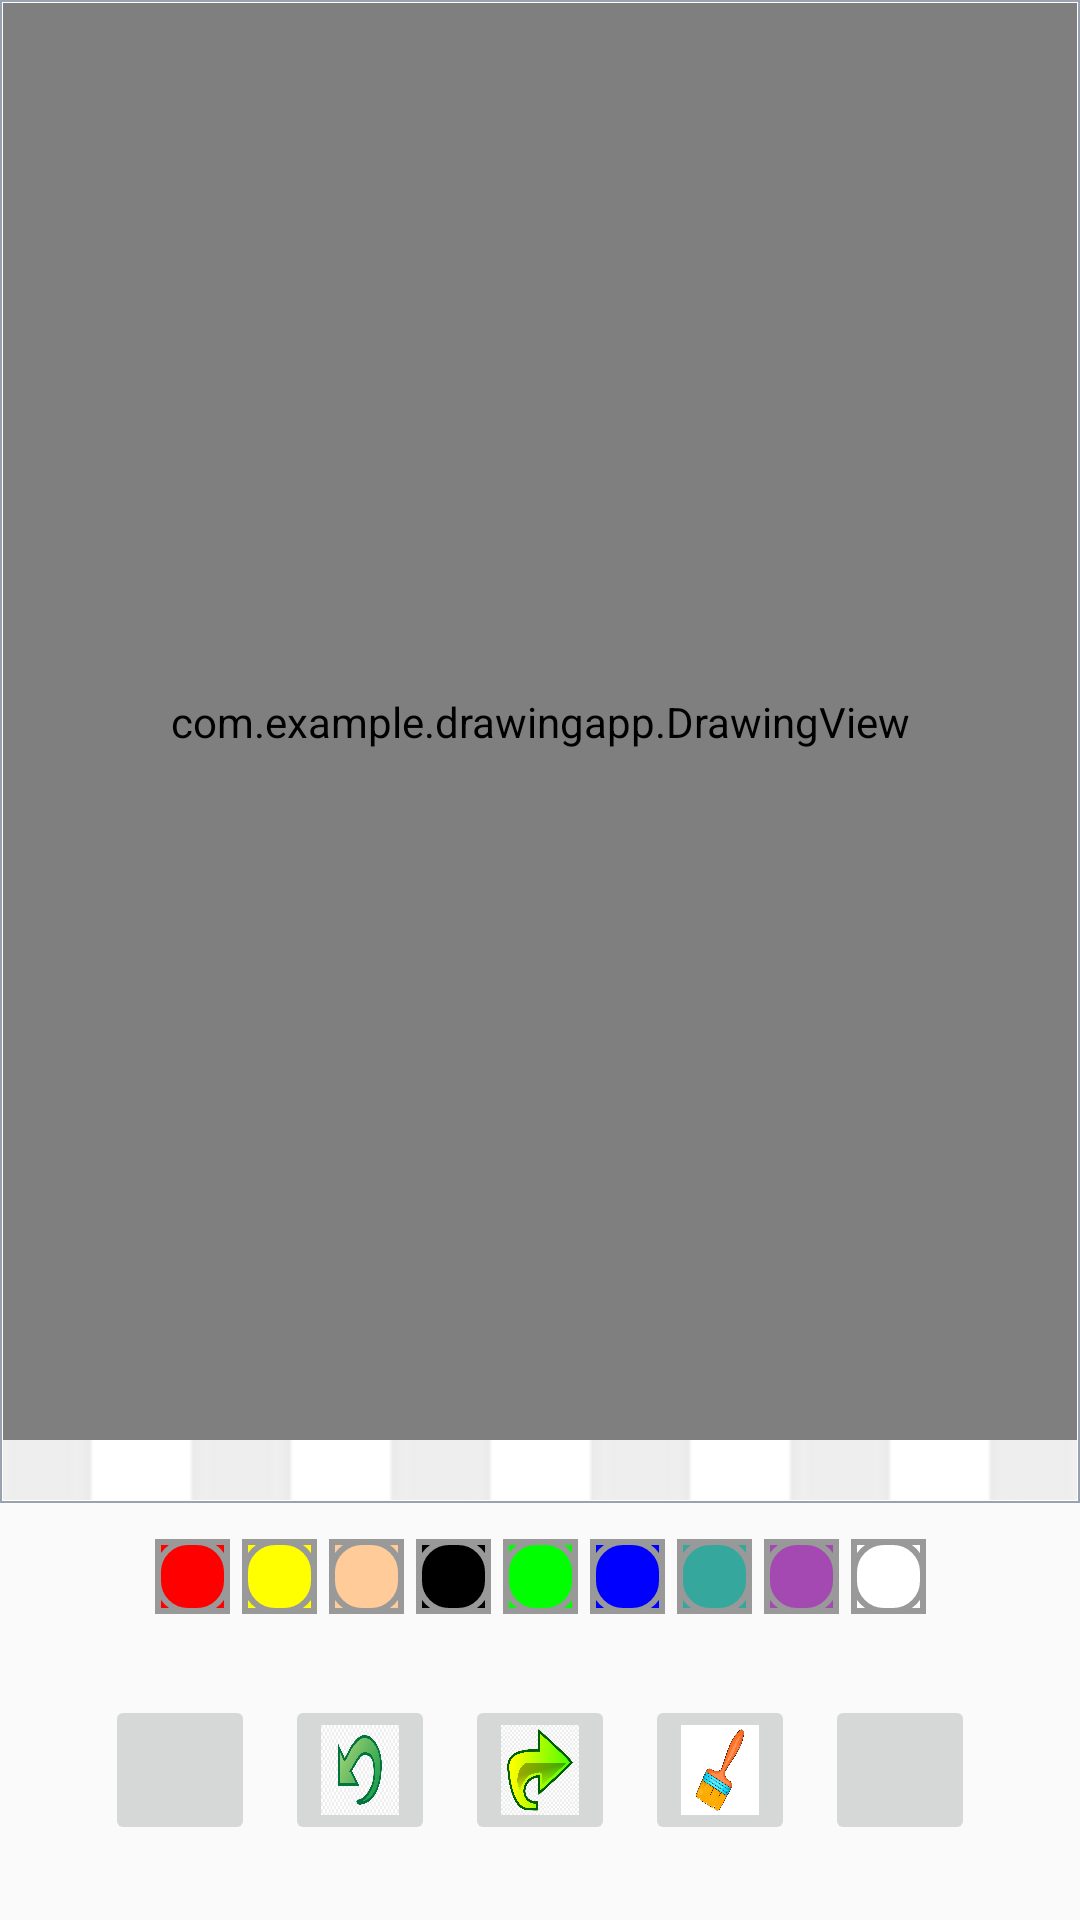

Locate icon controls on the screen. Image size 1080 x 1920, boxes as {"x1": x1, "y1": y1, "x2": x2, "y2": y2}.
redo: {"x1": 477, "y1": 1713, "x2": 603, "y2": 1827}
undo: {"x1": 297, "y1": 1713, "x2": 423, "y2": 1827}
